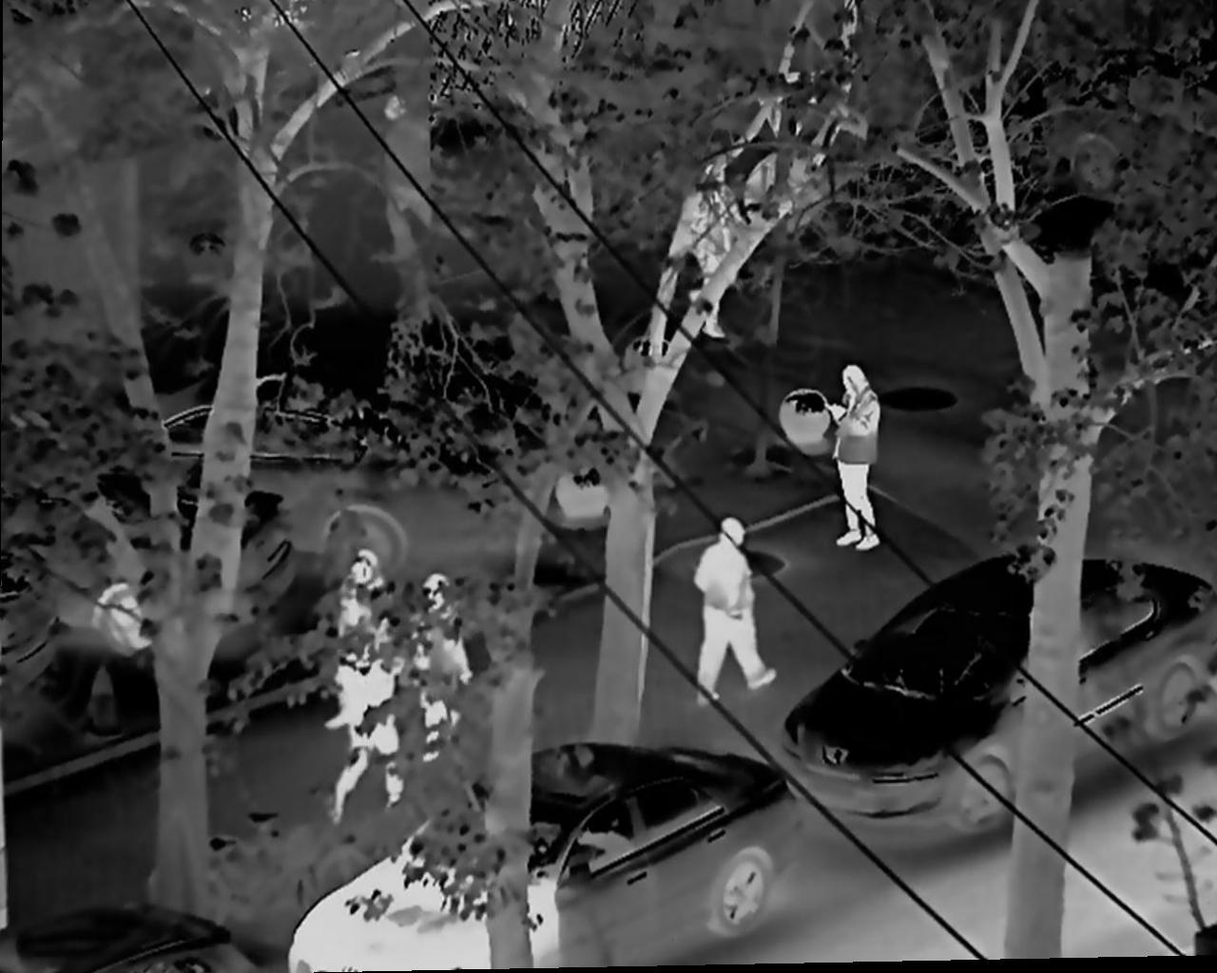person: (690, 518, 774, 705), (414, 568, 472, 762), (332, 667, 404, 823), (823, 365, 881, 548), (334, 551, 396, 646)
